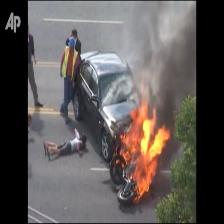fire: (118, 90, 169, 202)
